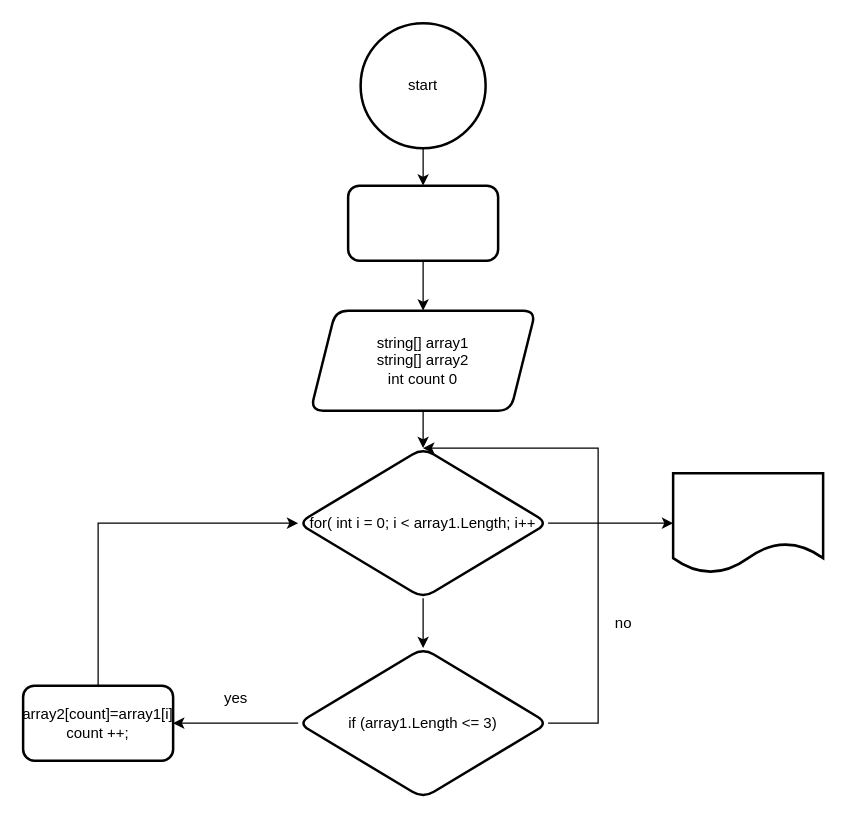
The diagram is 845 pixels wide and 820 high, and some of its shapes have lost their labels. The centre of each missing label's shape, as x and y in pixels:
array2: point 747,522
SearchArray: point 422,222
